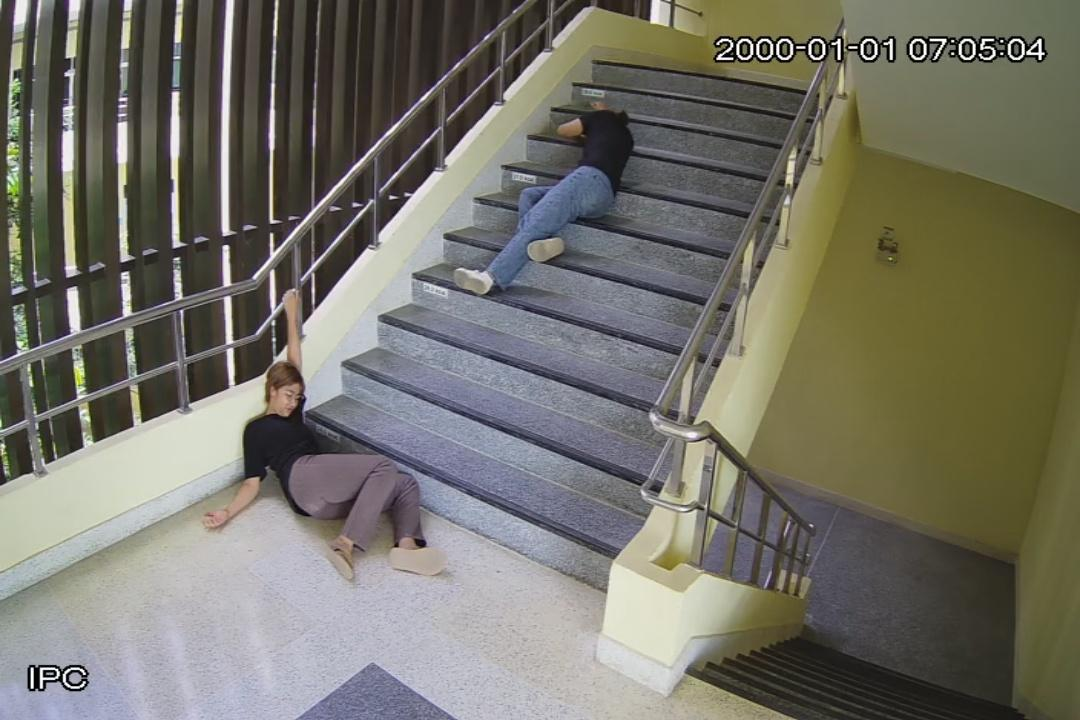fall: (211, 293, 452, 586), (436, 92, 652, 296)
